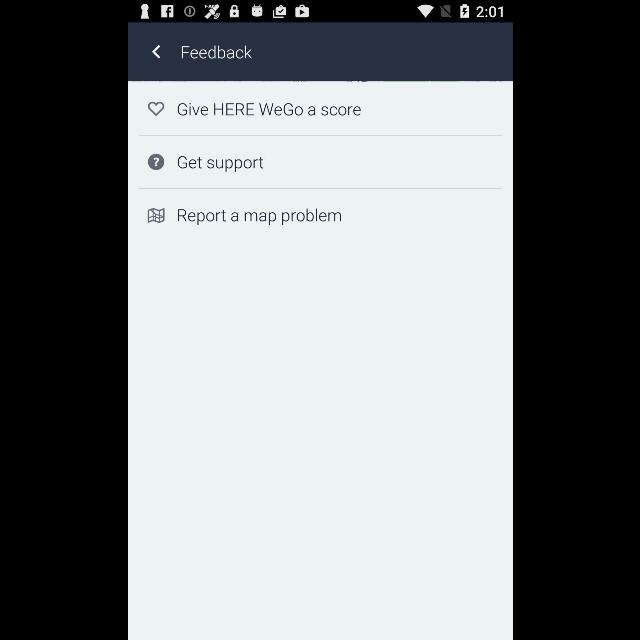icon: (148, 154, 164, 170), (147, 102, 163, 116), (152, 45, 160, 59)
image: (146, 208, 164, 222)
text: (178, 208, 340, 226), (178, 104, 360, 116), (177, 156, 263, 172), (181, 45, 251, 59)
toolbar: (128, 23, 512, 81)
uppertaskbar: (128, 1, 512, 23)
